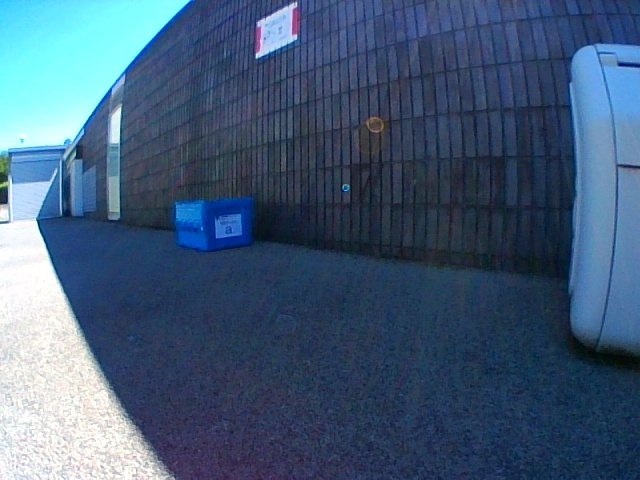blue_box: (175, 199, 252, 250)
tag_a: (219, 217, 238, 235)
